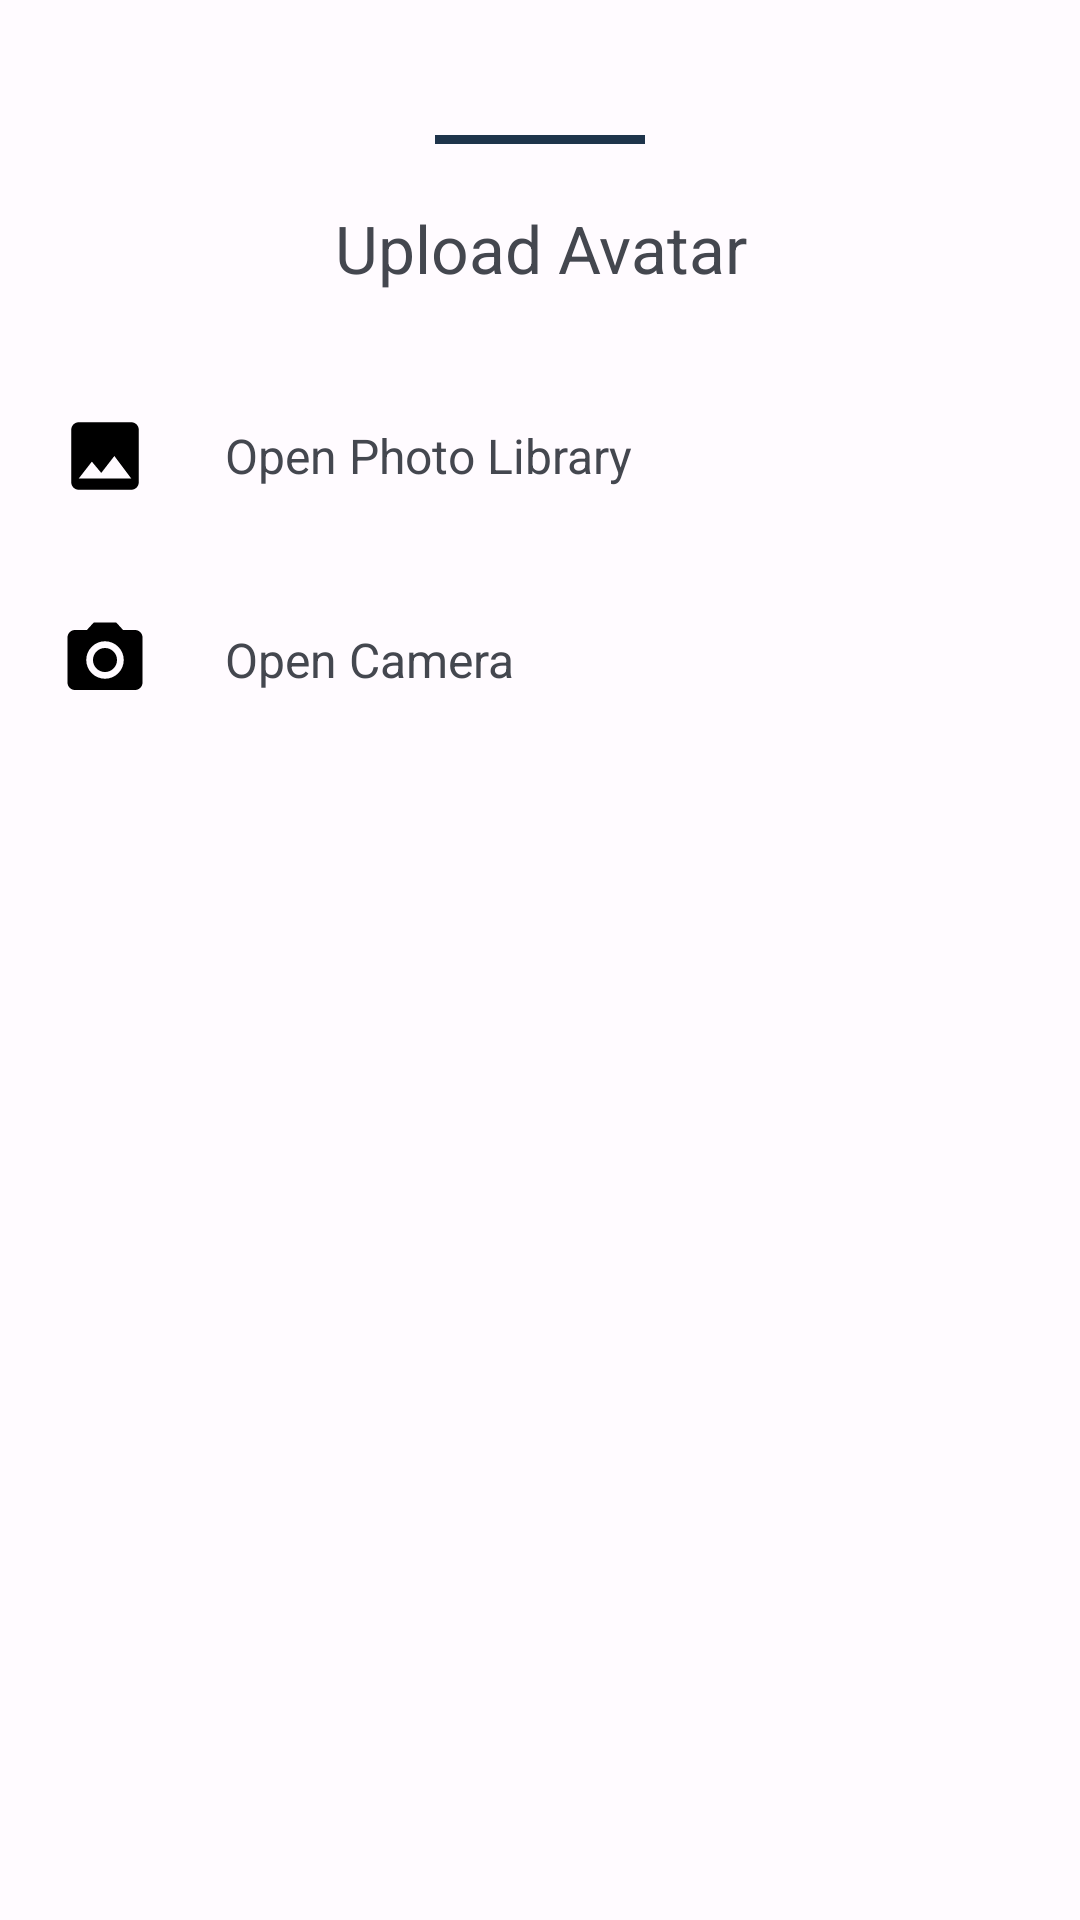

Screen size 1080w x 1920h. Icon name, then its center in pixels as (x=x, y=y):
insert photo: (x=105, y=456)
